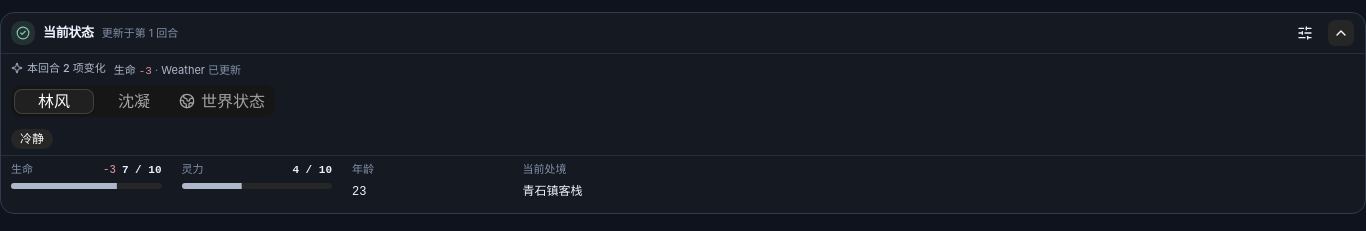
it: StoryStateLedger › keeps Actor and World State as peer tabs and hides the world tab without facts
Click the tab "世界状态". click: (223, 101)
box: [174,88,272,114]
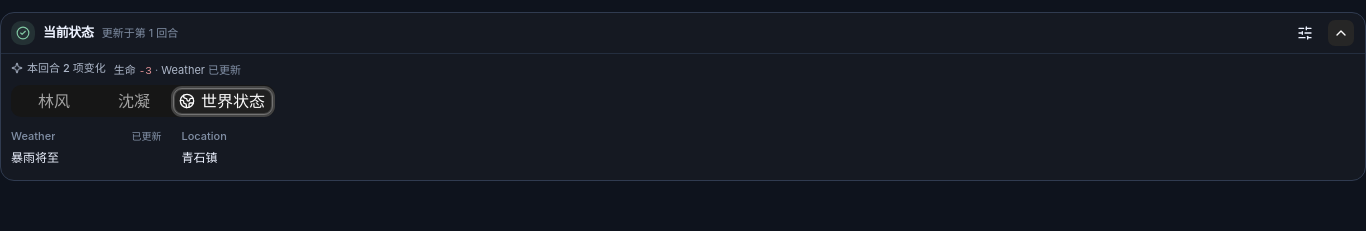
Result: the text "暴雨将至" is shown at [11,150,59,165]
Result: the heading "Weather" is shown at [11,129,55,145]
